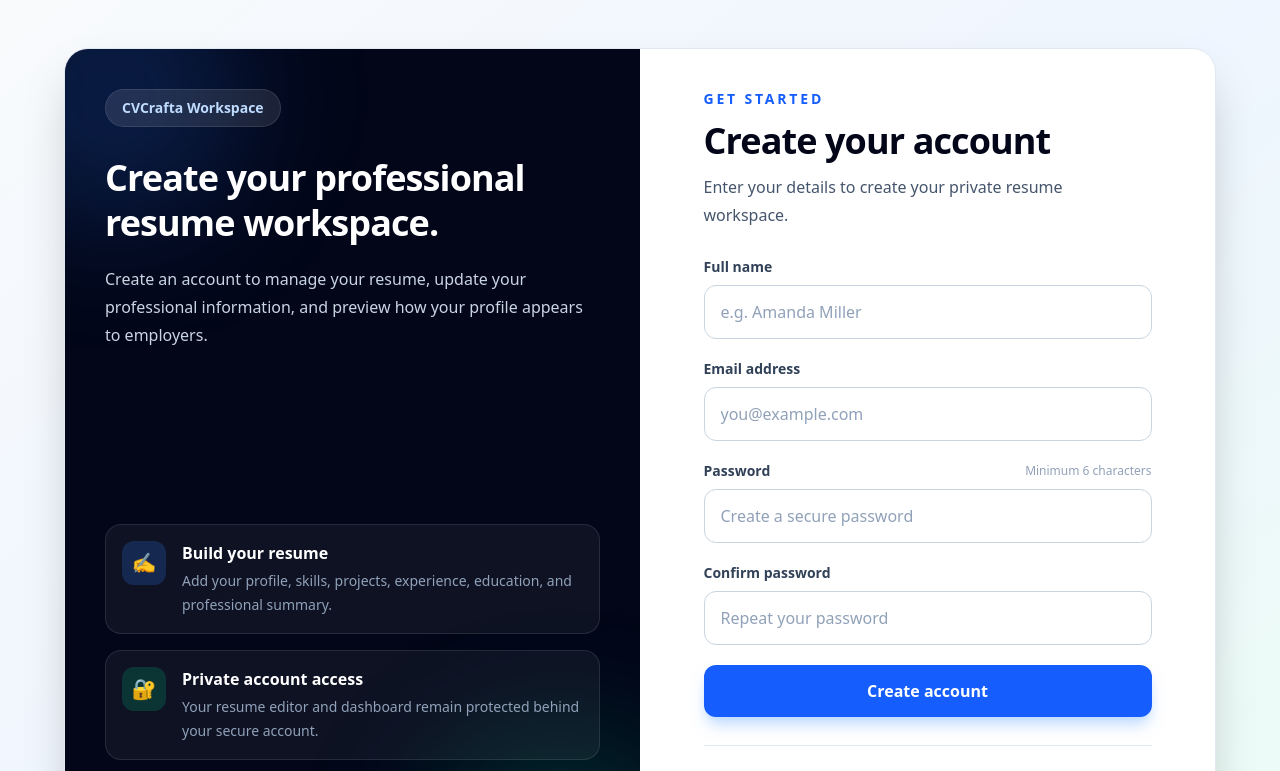
Test: RegisterPage › registers successfully and opens confirmation-pending guidance
Type "  Test User  " into the field labelled "Full name" at {"x": 928, "y": 312}, box [704,285,1152,339]
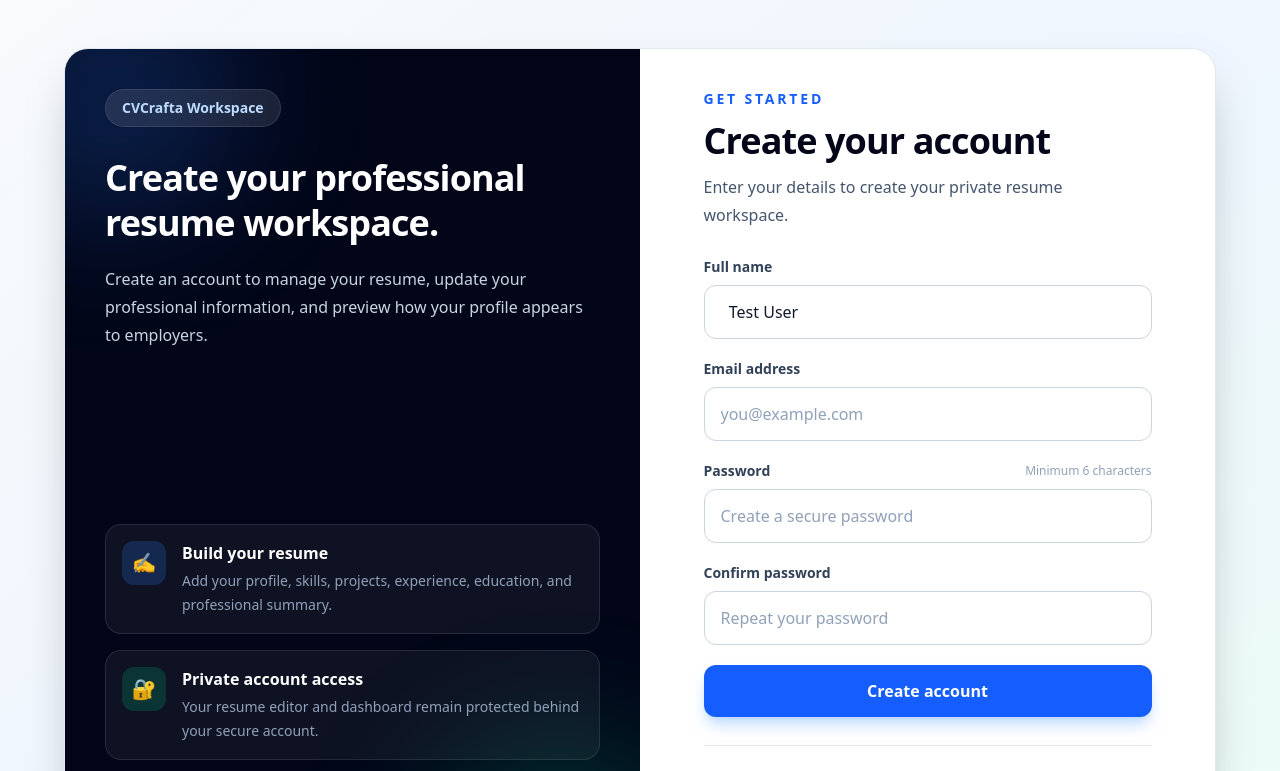
Type "  user@example.com  " into the field labelled "Email address" at {"x": 928, "y": 414}, box [704,387,1152,441]
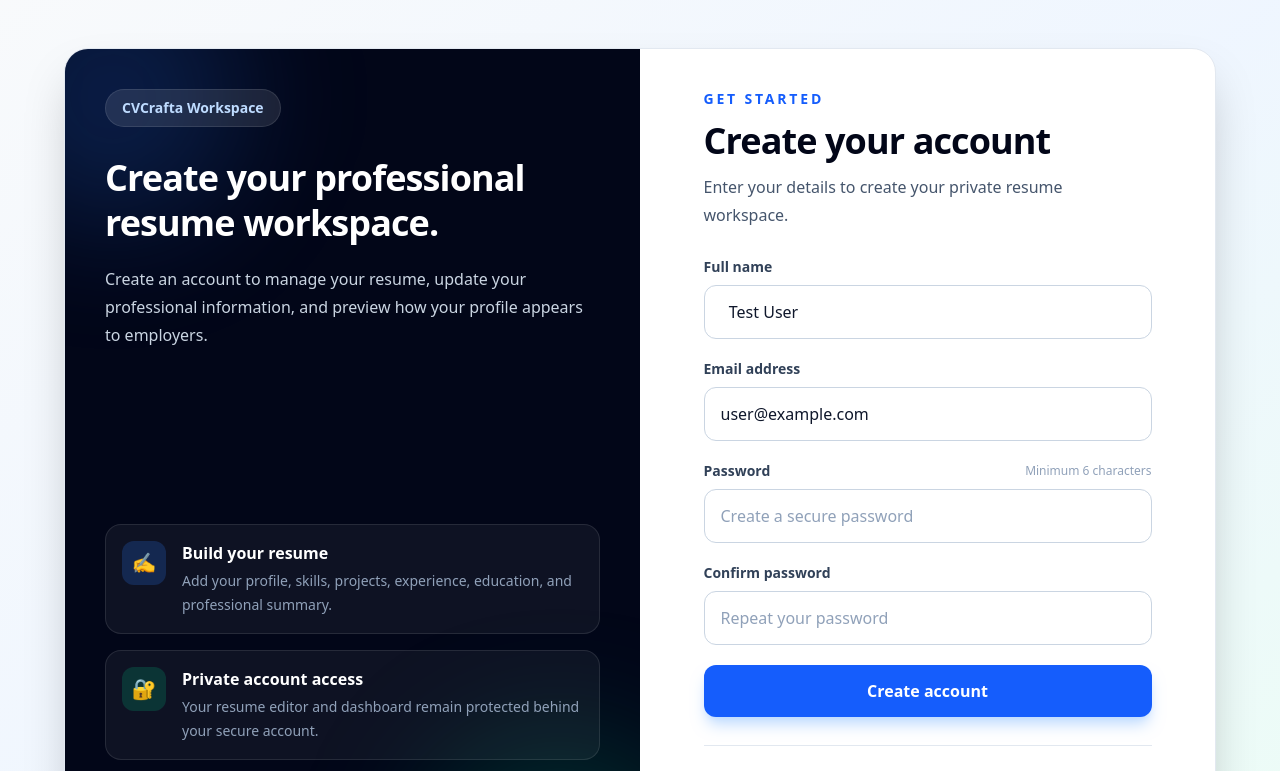
Type "Password123!" into the password field labelled "Password" at {"x": 928, "y": 516}, box [704,489,1152,543]
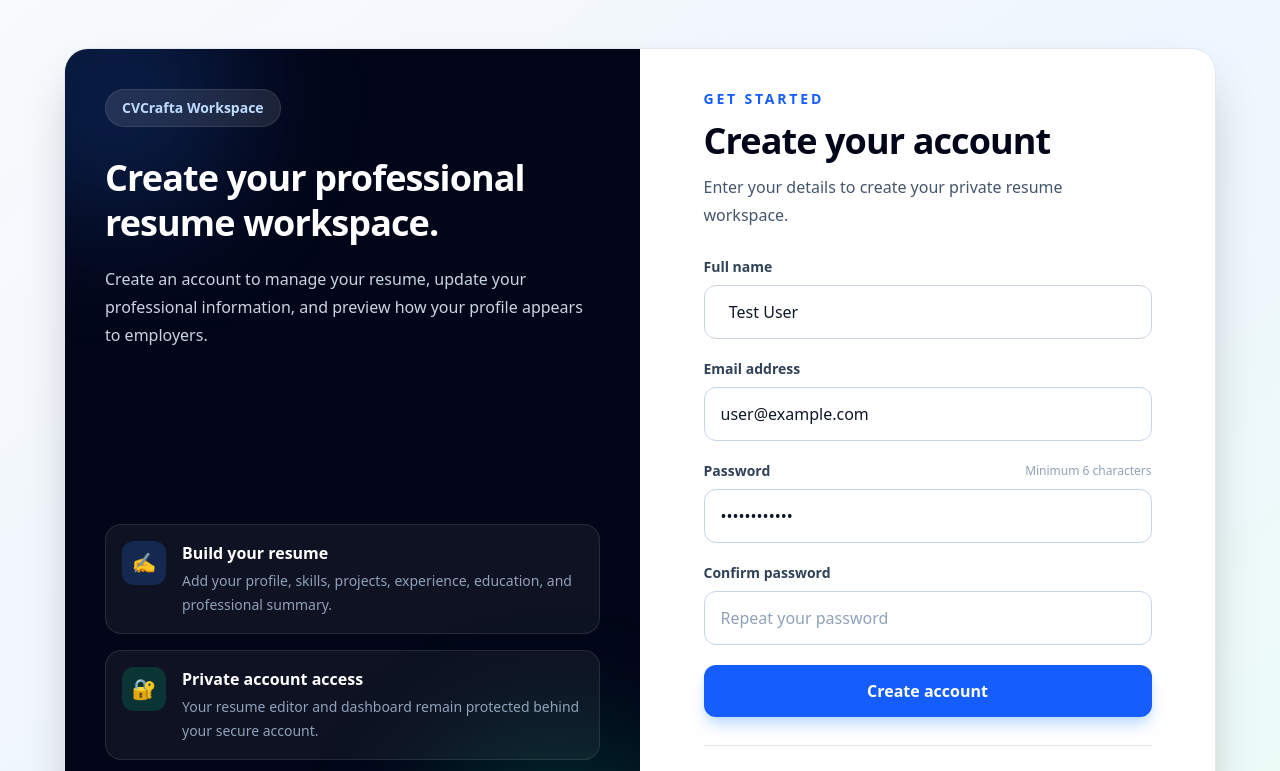
Type "Password123!" into the password field labelled "Confirm password" at {"x": 928, "y": 618}, box [704,591,1152,645]
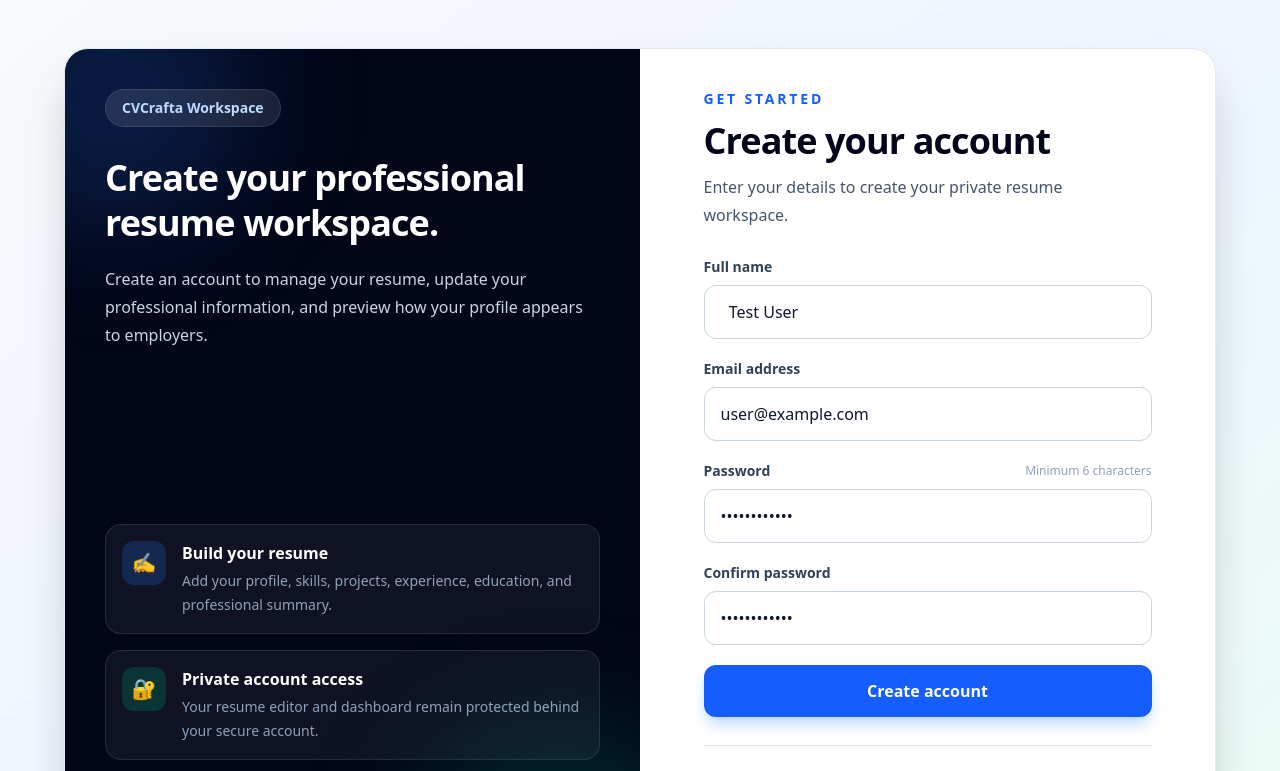
Submit the form named "Create account", box [704,257,1152,717]
(page scrolled)
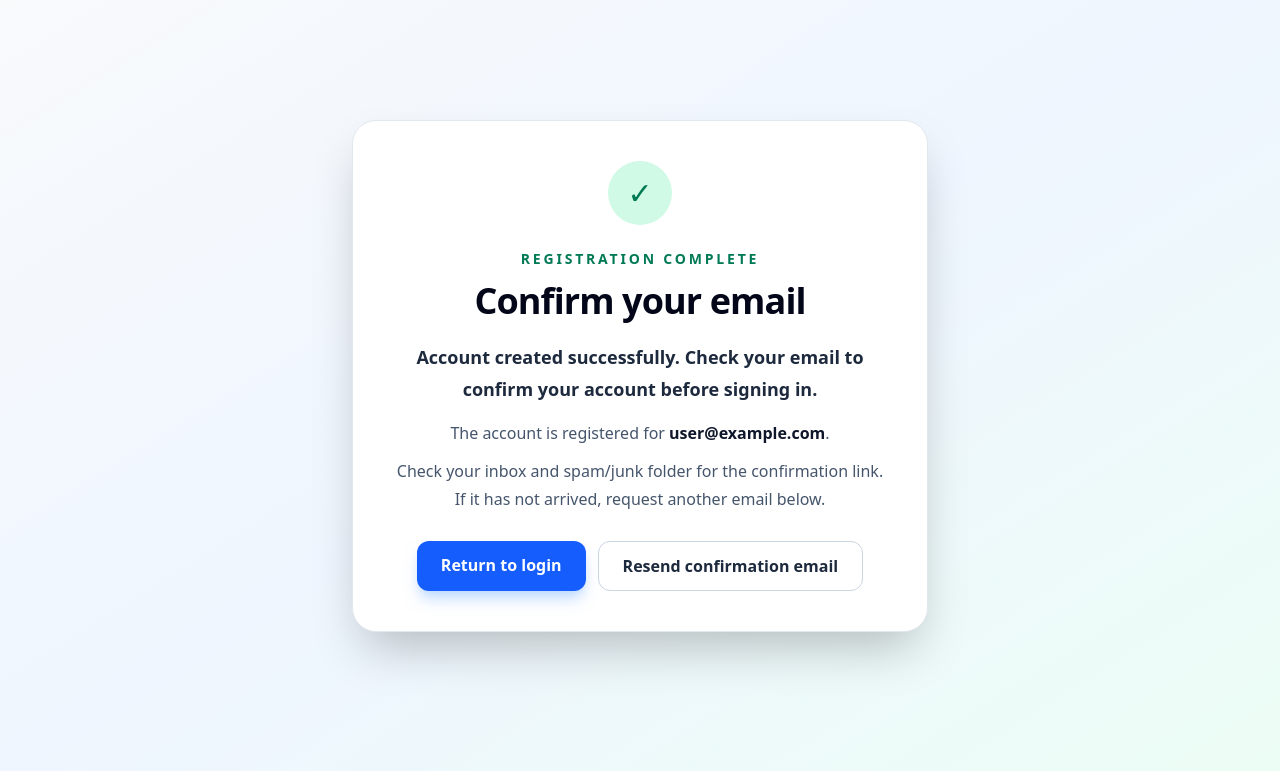
Result: the heading "Confirm your email" is shown at [474,276,806,325]
Result: the text "Account created successfully. Check your email to confirm your account before signing in." is shown at [416,345,864,401]
Result: the text "user@example.com" is shown at [669,422,825,444]
